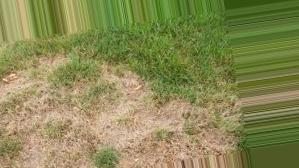patch: (98, 107, 157, 148), (58, 112, 95, 148), (20, 119, 46, 168), (172, 109, 202, 149), (11, 80, 40, 98), (30, 99, 47, 112)
